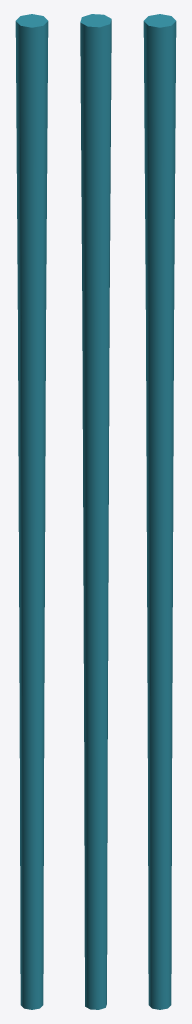
File: VLAB_liquid_stream.fbx
3 views of the same model, side by side, from view 1: azimuth 90°, elevation 25°; view 2: azimuth 150°, elevation 25°; view 3: azimuth 270°, elevation 25° (orthographic).
Parts seen in each view (by area): view 1: VLAB_liquid_stream_StreamProxy_VIS, VLAB_liquid_stream_EndpointA_VIS; view 2: VLAB_liquid_stream_StreamProxy_VIS, VLAB_liquid_stream_EndpointA_VIS; view 3: VLAB_liquid_stream_StreamProxy_VIS, VLAB_liquid_stream_EndpointA_VIS.
Boxes of the visible parts, box(x1,y1,x2,y2) form: VLAB_liquid_stream_StreamProxy_VIS: box(15, 21, 48, 1009); VLAB_liquid_stream_EndpointA_VIS: box(16, 14, 47, 27); VLAB_liquid_stream_StreamProxy_VIS: box(80, 20, 111, 1009); VLAB_liquid_stream_EndpointA_VIS: box(80, 14, 111, 27); VLAB_liquid_stream_StreamProxy_VIS: box(143, 21, 176, 1009); VLAB_liquid_stream_EndpointA_VIS: box(144, 14, 175, 27).
Size of the model in its own units: 0.003 by 0.1 by 0.003.
